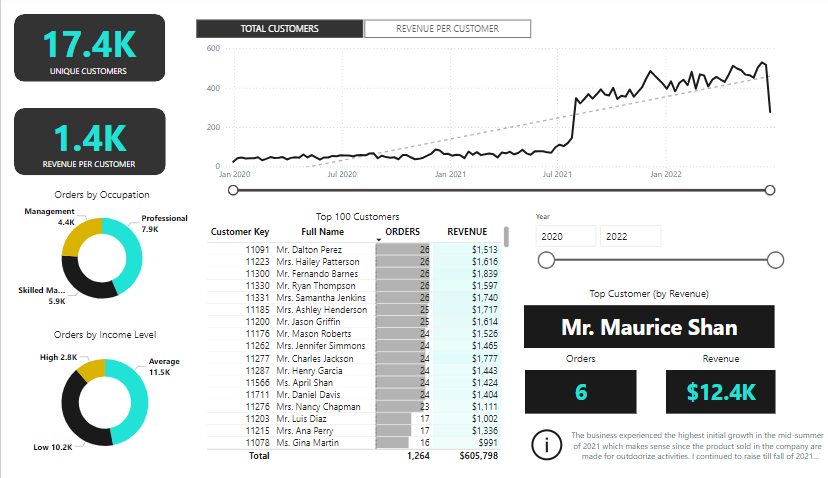

Layout of this report page (visuals, bound fields, positions):
{"tool":"powerbi","page":{"name":"Customer Detail","canvas":[1280,720],"ordinal":3},"visuals":[{"type":"shape","box":[0,0,45,720],"z":0},{"type":"actionButton","box":[0,606.1,45.5,40.9],"z":0,"group":"g1"},{"type":"shape","box":[65.9,26.3,225.4,101],"z":1000},{"type":"actionButton","box":[0,659.1,45.5,40.9],"z":1000,"group":"g1"},{"type":"card","fields":{"Values":["MeasureTable.Total Customers"]},"box":[41.8,7.5,268.7,138.8],"z":2000},{"type":"actionButton","box":[0,548.5,45.5,40.9],"z":2000,"group":"g1"},{"type":"actionButton","box":[0,490.9,45.5,40.9],"z":3000,"group":"g1"},{"type":"shape","box":[65.5,167.2,225.9,100],"z":3000},{"type":"card","fields":{"Values":["MeasureTable.Average Revenue per Customer"]},"box":[43.9,146.3,267.8,140.5],"z":4000},{"type":"lineChart","title":"Weekly Customers","fields":{"Y":["MeasureTable.UNIQUE CUSTOMERS"],"Category":["Calendar Lookup.Start of Week"]},"box":[346.3,64.2,873.1,235.8],"z":5000},{"type":"donutChart","title":"Orders by Income Level","fields":{"Y":["MeasureTable.ORDERS"],"Category":["Customer Lookup.Income Level"]},"box":[65.9,493.2,270.7,204.9],"z":6000},{"type":"donutChart","title":"Orders by Occupation","fields":{"Y":["MeasureTable.ORDERS"],"Category":["Customer Lookup.Occupation"]},"box":[67.3,283.9,259,191.7],"z":7000},{"type":"tableEx","title":"Top 100 Customers","fields":{"Values":["Customer Lookup.CustomerKey","Customer Lookup.Full Name","MeasureTable.ORDERS","MeasureTable.REVENUE"]},"box":[346.5,316.9,460.6,380.3],"z":8000},{"type":"card","fields":{"Values":["Customer Lookup.Full Name"]},"box":[824.8,459.8,372.6,64.4],"z":9000},{"type":"textbox","box":[824.8,426.9,372.6,32.9],"z":10000},{"type":"card","fields":{"Values":["MeasureTable.REVENUE"]},"box":[1035.2,556.5,163.4,64.8],"z":11000},{"type":"textbox","box":[1035.2,524.1,163.4,32.4],"z":12000},{"type":"card","fields":{"Values":["MeasureTable.ORDERS"]},"box":[825.3,556.5,166.2,64.8],"z":13000},{"type":"textbox","box":[825.3,524.1,166.2,32.4],"z":14000},{"type":"slicer","fields":{"Values":["Calendar Lookup.Year"]},"box":[828.3,317.6,390.7,109.8],"z":15000},{"type":"actionButton","box":[0,7.3,45.4,41],"z":16000},{"type":"actionButton","box":[828.8,637.9,451.5,59.1],"z":17000},{"type":"group","id":"g1","title":"Nav Buttons","box":[0,490.9,45.5,209.1],"z":18000},{"type":"slicer","fields":{"Values":["Customer Metric Selection.Customer Metric Selection"]},"box":[310.4,28.4,547.8,35.8],"z":19000}]}

Visuals, with their boxes in screenshot pixels (x1, y1, x2, y2), scaled from the page's 1280x720 canvas onto the 828x478 screenshot:
shape: 0,0,29,477
actionButton: 0,402,29,430
shape: 43,17,188,85
actionButton: 0,438,29,465
card - MeasureTable.Total Customers: 27,5,201,97
actionButton: 0,364,29,391
actionButton: 0,326,29,353
shape: 42,111,188,177
card - MeasureTable.Average Revenue per Customer: 28,97,202,190
"Weekly Customers" lineChart: 224,43,789,199
"Orders by Income Level" donutChart: 43,327,218,463
"Orders by Occupation" donutChart: 44,188,211,316
"Top 100 Customers" tableEx: 224,210,522,463
card - Customer Lookup.Full Name: 534,305,775,348
textbox: 534,283,775,305
card - MeasureTable.REVENUE: 670,369,775,412
textbox: 670,348,775,369
card - MeasureTable.ORDERS: 534,369,641,412
textbox: 534,348,641,369
slicer - Calendar Lookup.Year: 536,211,789,284
actionButton: 0,5,29,32
actionButton: 536,423,827,463
"Nav Buttons" group: 0,326,29,465
slicer - Customer Metric Selection.Customer Metric Selection: 201,19,555,43
